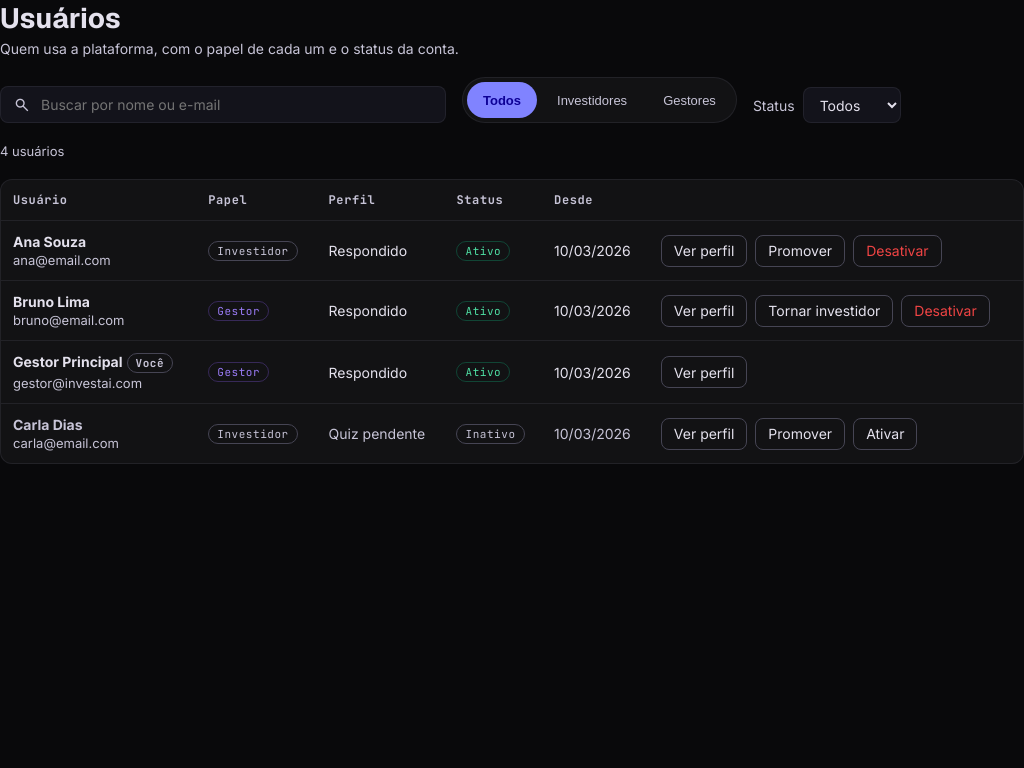
Test: ListaUsuariosComponent › promover deve pedir confirmação explicando o acesso e trocar o papel
Step 1. Click the button "Promover" in the row of "Ana Souza" → (800,250), box [755, 234, 845, 266]
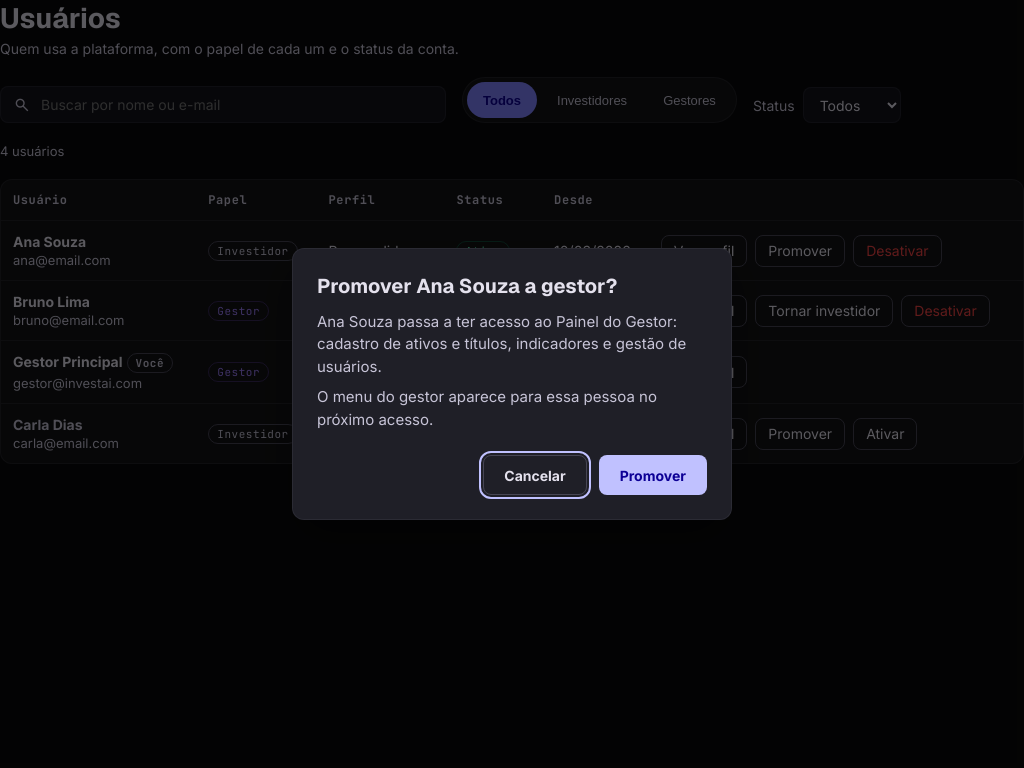
Expected: the dialog shows "Promover Ana Souza a gestor?", [317, 273, 617, 299]
Expected: the dialog shows "acesso ao Painel do Gestor", [317, 312, 686, 376]
Step 2. Click the button with class "dialogo__confirmar" → (653,475), box [599, 455, 707, 495]
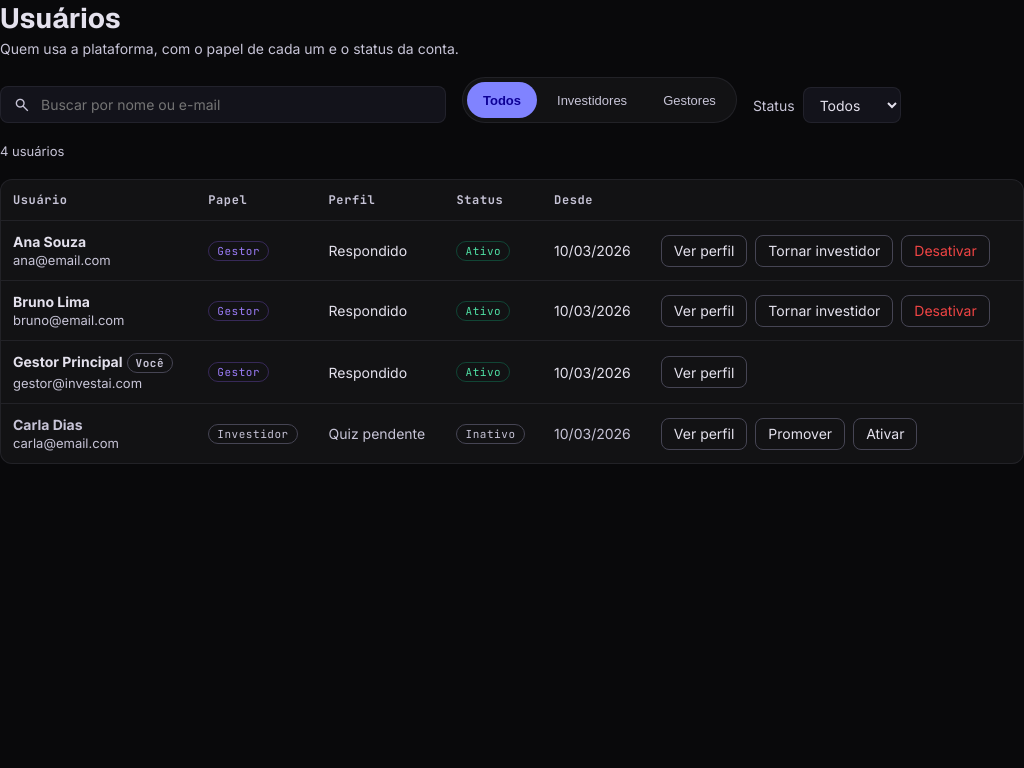
Expected: the row that starts with "Ana Souza" shows "Gestor", [217, 244, 260, 258]
